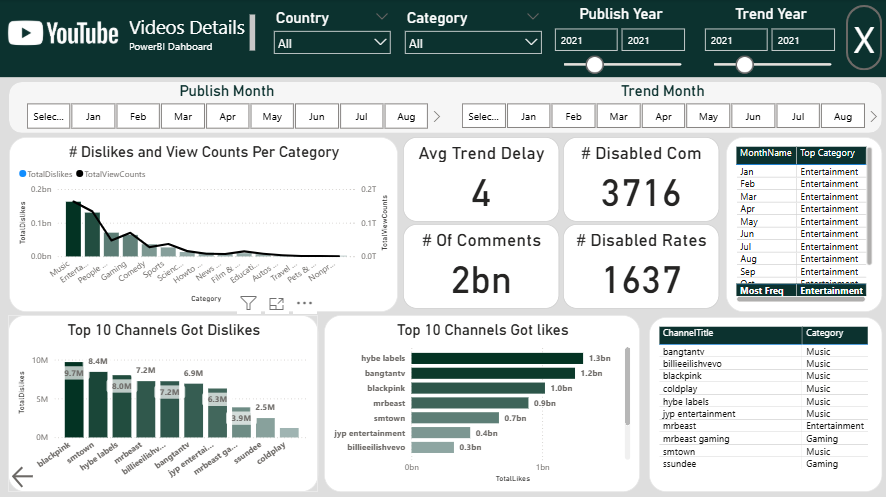

The dashboard page shown, as its layout file describes it:
{"tool":"powerbi","page":{"name":"Page 2","canvas":[1280,720],"ordinal":1},"visuals":[{"type":"shape","box":[0,0,1280,112.5],"z":0},{"type":"textbox","box":[181.4,16.8,191.5,63.8],"z":1000},{"type":"image","box":[0,8.4,181.4,80.6],"z":2000},{"type":"slicer","fields":{"Values":["Country.Country"]},"box":[384.7,10.1,188.1,79],"z":3000},{"type":"slicer","fields":{"Values":["Category.Category"]},"box":[572.8,10.1,216.7,79],"z":4000},{"type":"slicer","title":"Publish Year","fields":{"Values":["PublishDateDim.Year"]},"box":[786,8,216,104],"z":5000},{"type":"slicer","title":"Trend Year","fields":{"Values":["DateDim.Year"]},"box":[1002,8,216,104],"z":6000},{"type":"shape","box":[13.3,120,1256.7,73.3],"z":7000},{"type":"slicer","title":"Publish Month","fields":{"Values":["PublishDateDim.MonthName"]},"box":[12.5,120.1,627.5,73.5],"z":8000},{"type":"slicer","title":"Trend Month","fields":{"Values":["DateDim.MonthNameTrend"]},"box":[640,120,630,73.3],"z":9000},{"type":"tableEx","fields":{"Values":["PublishDateDim.MonthName","DaxMeasures.Top Category"]},"box":[1045.4,198.7,224.6,252],"z":11000},{"type":"card","title":"# Disabled Com","fields":{"Values":["DaxMeasures.ComIsDisabled"]},"box":[810.7,198.7,224.6,122],"z":12000},{"type":"lineClusteredColumnComboChart","title":"# Dislikes and View Counts Per Category","fields":{"Category":["Category.Category"],"Y":["DaxMeasures.TotalDislikes"],"Y2":["DaxMeasures.TotalViewCounts"]},"box":[13,198.7,560.2,252],"z":13000},{"type":"card","title":"# Disabled Rates","fields":{"Values":["DaxMeasures.RateIsDisabled"]},"box":[810.7,324,224.6,122],"z":14000},{"type":"card","title":"# Of Comments","fields":{"Values":["DaxMeasures.TotalComments"]},"box":[579.6,324,224.6,122],"z":15000},{"type":"card","title":"Avg Trend Delay","fields":{"Values":["DaxMeasures.AvgTrendDelay"]},"box":[579.6,198.7,224.6,122],"z":16000},{"type":"lineClusteredColumnComboChart","title":"Top 10 Channels Got Dislikes","fields":{"Category":["Channels.ChannelTitle"],"Y":["DaxMeasures.TotalDislikes"]},"box":[11.8,455.2,446.8,255.3],"z":17000},{"type":"actionButton","box":[13.4,668.6,52.1,40.3],"z":18000},{"type":"barChart","title":"Top 10 Channels Got likes","fields":{"Category":["Channels.ChannelTitle"],"Y":["DaxMeasures.TotalLikes"]},"box":[467,455.2,455.2,255.3],"z":19000},{"type":"tableEx","fields":{"Values":["Channels.ChannelTitle","Category.Category"]},"box":[934,458.6,336,252],"z":20000},{"type":"actionButton","box":[1218,8,52,94],"z":20001}]}

Visuals, with their boxes in screenshot pixels (x1, y1, x2, y2), scaled from the page's 1280x720 canvas onto the 886x497 screenshot:
shape: 0 0 885 78
textbox: 126 12 258 56
image: 0 6 126 61
slicer - Country.Country: 266 7 396 62
slicer - Category.Category: 396 7 546 62
"Publish Year" slicer: 544 6 694 77
"Trend Year" slicer: 694 6 843 77
shape: 9 83 879 133
"Publish Month" slicer: 9 83 443 134
"Trend Month" slicer: 443 83 879 133
tableEx - PublishDateDim.MonthName x DaxMeasures.Top Category: 724 137 879 311
"# Disabled Com" card: 561 137 717 221
"# Dislikes and View Counts Per Category" lineClusteredColumnComboChart: 9 137 397 311
"# Disabled Rates" card: 561 224 717 308
"# Of Comments" card: 401 224 557 308
"Avg Trend Delay" card: 401 137 557 221
"Top 10 Channels Got Dislikes" lineClusteredColumnComboChart: 8 314 317 490
actionButton: 9 462 45 489
"Top 10 Channels Got likes" barChart: 323 314 638 490
tableEx - Channels.ChannelTitle x Category.Category: 647 317 879 491
actionButton: 843 6 879 70
